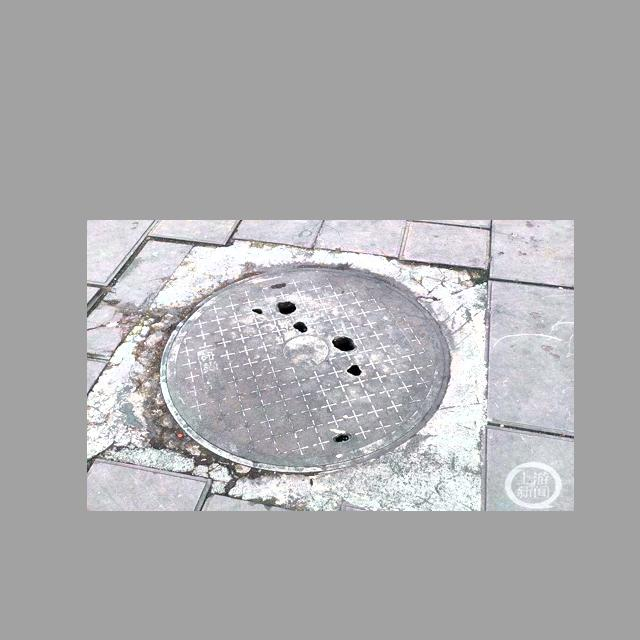circle: (98, 237, 499, 504)
